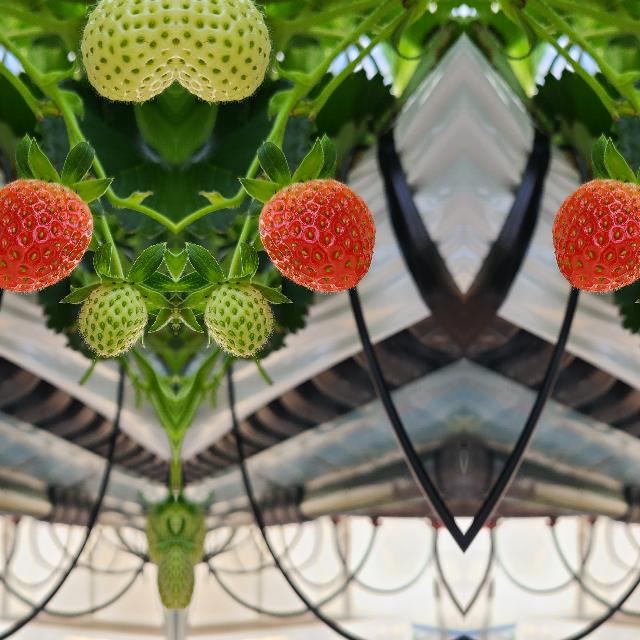Health_100: (258, 180, 374, 290), (0, 179, 92, 290), (551, 179, 640, 290)
Health_25: (174, 4, 274, 104), (76, 4, 176, 104), (203, 279, 274, 363), (76, 279, 146, 363)
